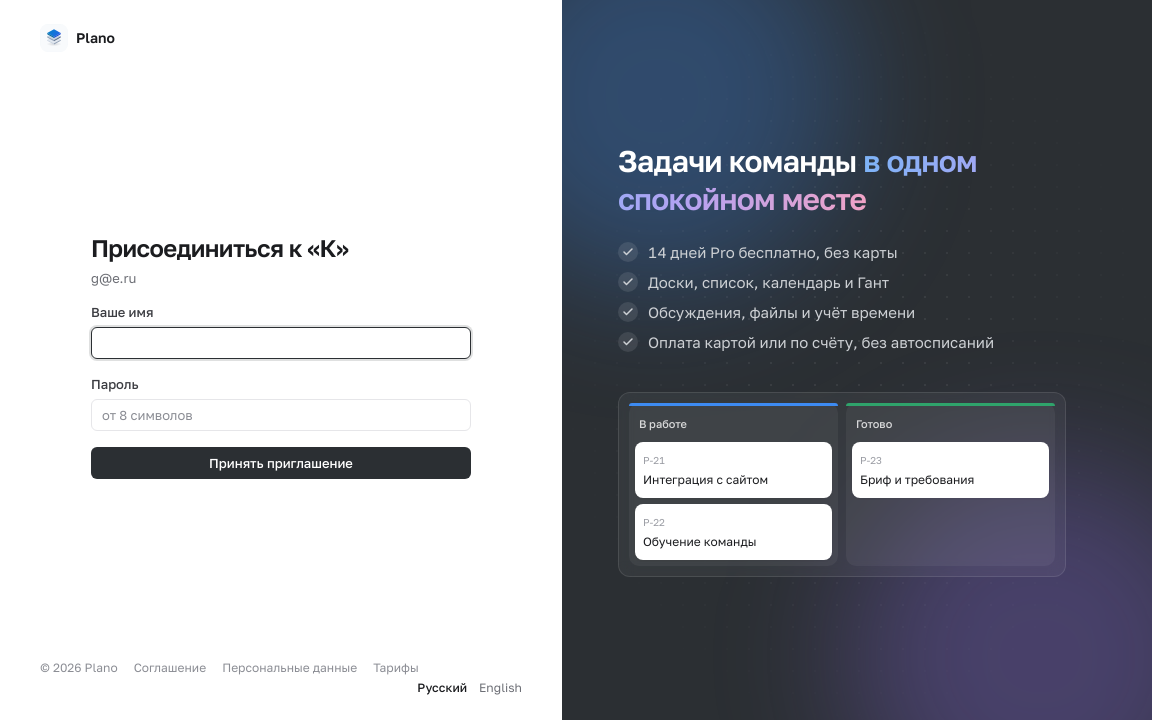
invitation › explains an invalid link and shows form errors
This screenshot has width=1152, height=720.
Later steps or results of the test are not shown.
Expected: the heading "Присоединиться к «К»" is shown, 91,233 -> 348,262
Click the button "Принять приглашение": (281, 463) 91,447 -> 471,479
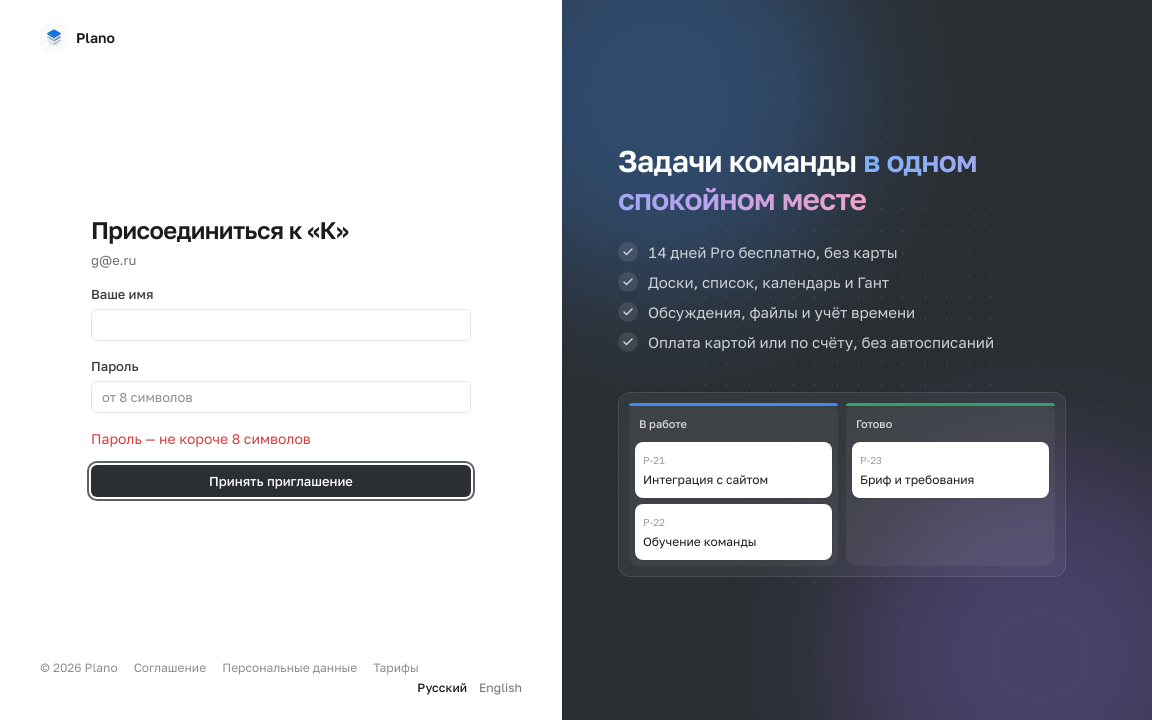
Now the text "Пароль — не короче 8 символов" is shown, box 91,430 -> 311,447
